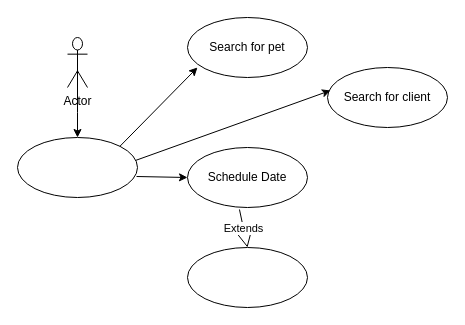
Some shapes in this 465 by 325 pixel diagram are drawn without their labels. The shapes that lost their labels are listed below. From the top down, each one's centre as x and y in pixels, then its label:
point (77, 167): Book reservation
point (247, 277): Confirm Date
